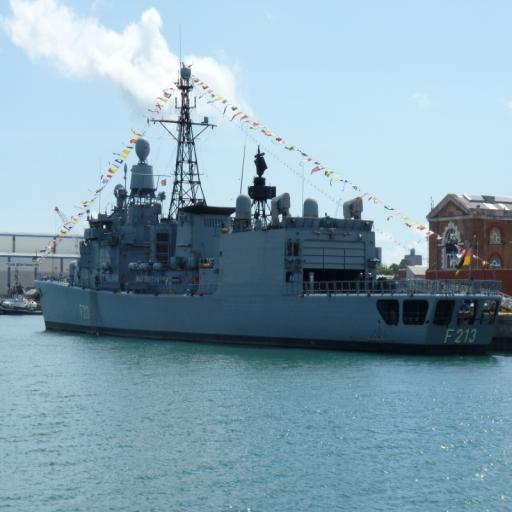Fragata: (32, 45, 505, 353)
